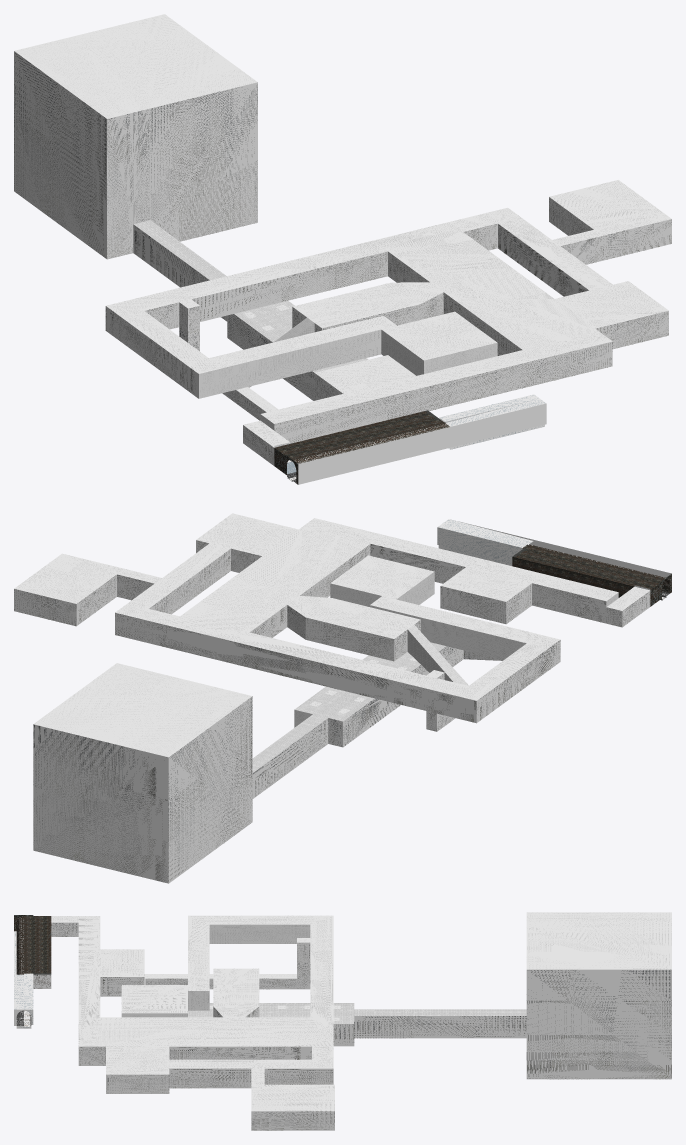
Rendered from Metro4.fbx.
The picture shows the model from 3 angles, top to bottom: view 1: azimuth 30°, elevation 25°; view 2: azimuth 150°, elevation 25°; view 3: azimuth 270°, elevation 25°; orthographic projection. The views are drawn at different scales.
Visible parts, largest first — view 1: Model; view 2: Model; view 3: Model.
Boxes of the visible parts, box(x1,y1,x2,y2) form: Model: box(14, 14, 671, 484); Model: box(14, 513, 671, 883); Model: box(14, 912, 671, 1130).
Size of the model in its own units: 99.52 by 25.39 by 138.
